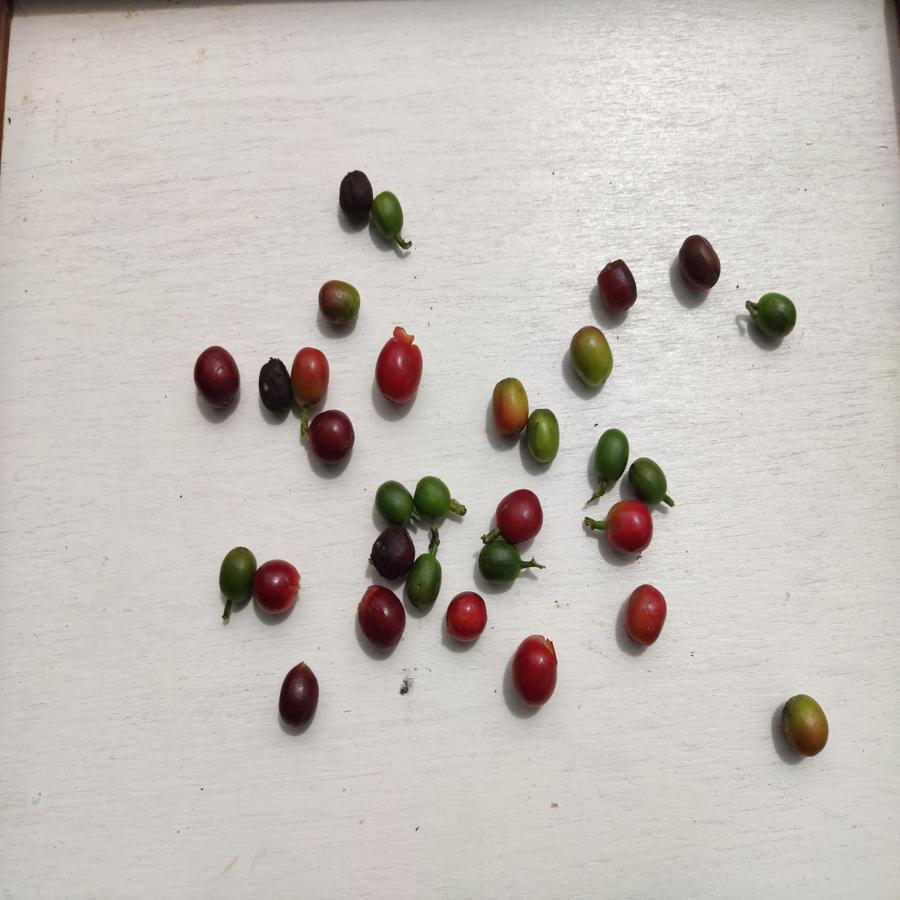Inmaduro: (756, 288, 798, 340), (218, 545, 255, 603), (477, 537, 522, 584), (628, 455, 671, 504), (594, 423, 630, 481), (373, 479, 419, 522), (412, 472, 453, 520), (411, 552, 443, 612), (373, 188, 405, 243)
Maduro: (374, 328, 424, 408), (512, 631, 560, 708), (604, 496, 655, 558), (492, 485, 547, 542), (625, 582, 670, 650), (254, 557, 301, 614), (290, 345, 332, 408), (443, 588, 489, 645)
Pinton: (780, 689, 832, 762), (568, 326, 615, 389), (488, 372, 529, 444), (315, 276, 362, 328), (527, 405, 565, 467)
Sobremaduro: (192, 345, 243, 412), (358, 582, 407, 650), (276, 660, 322, 729), (676, 228, 723, 294), (308, 410, 357, 466), (370, 522, 415, 580), (595, 258, 640, 314), (258, 357, 292, 420), (338, 168, 373, 228)
